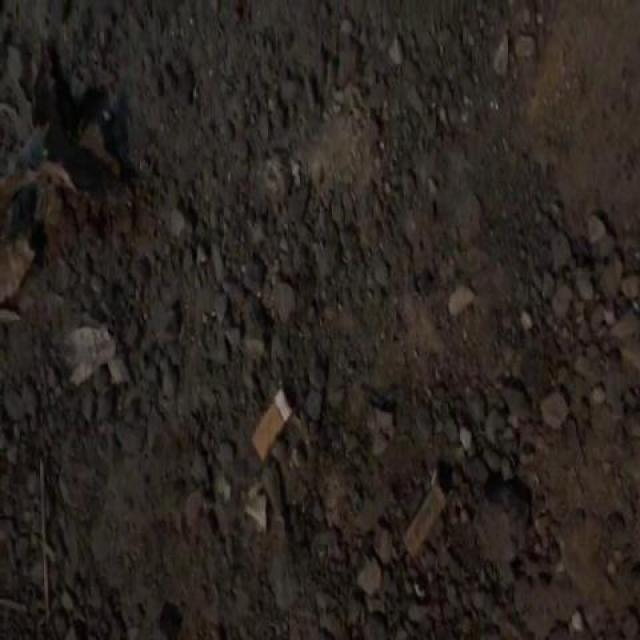non-organic waste: (247, 381, 294, 467)
